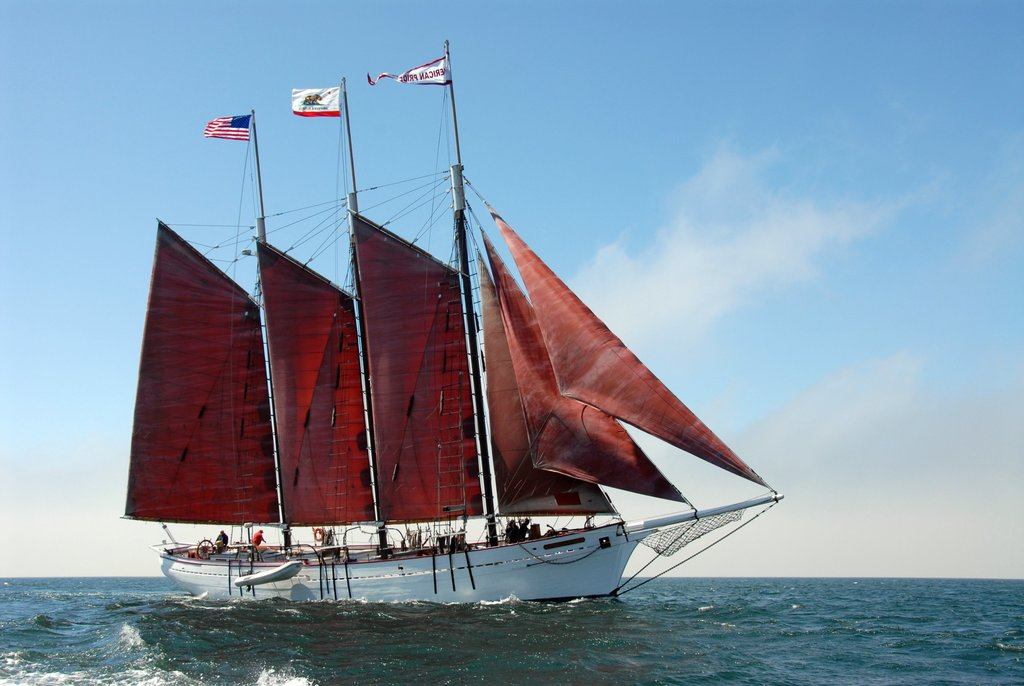boat: (115, 16, 806, 631)
